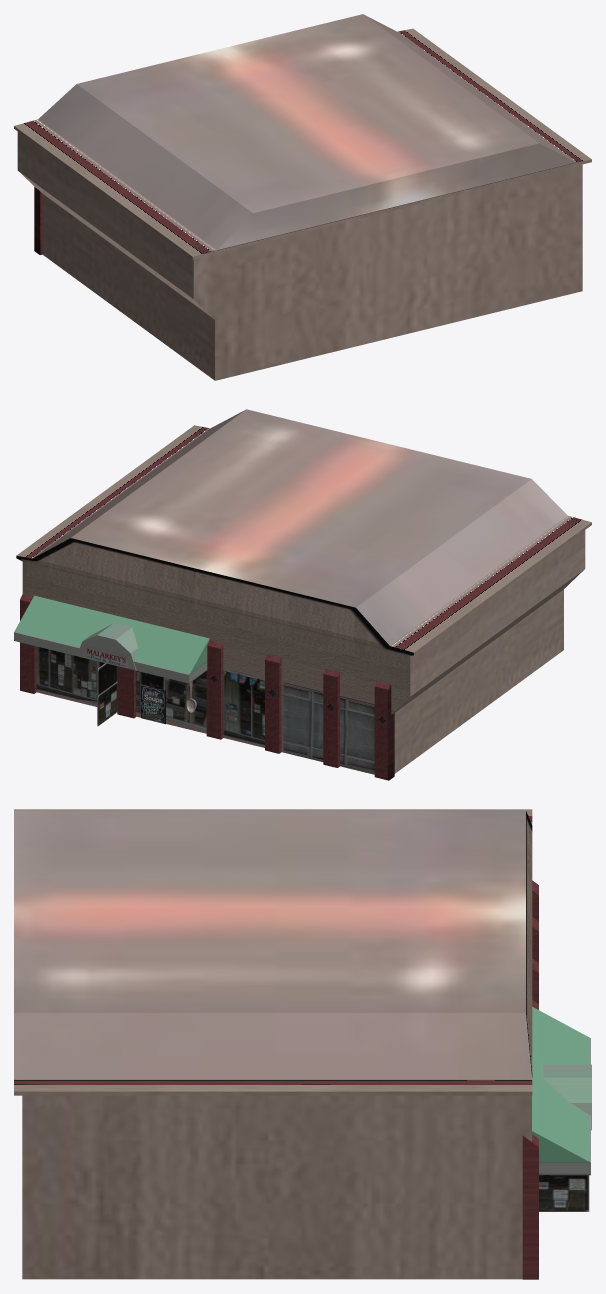
File: infinitsoupshop.fbx
3 views of the same model, one above another, from view 1: azimuth 30°, elevation 25°; view 2: azimuth 150°, elevation 25°; view 3: azimuth 270°, elevation 25° (orthographic). The views are drawn at different scales.
Parts seen in each view (by area): view 1: polySurface23; view 2: polySurface23; view 3: polySurface23.
Boxes of the visible parts, x1,y1,x2,y2 form: polySurface23: [14, 14, 591, 380]; polySurface23: [14, 409, 591, 780]; polySurface23: [14, 809, 591, 1279].
Bounding box in the file's own units: 16.17 × 6.24 × 13.99.
Materials: 1 (1 with a texture image).
